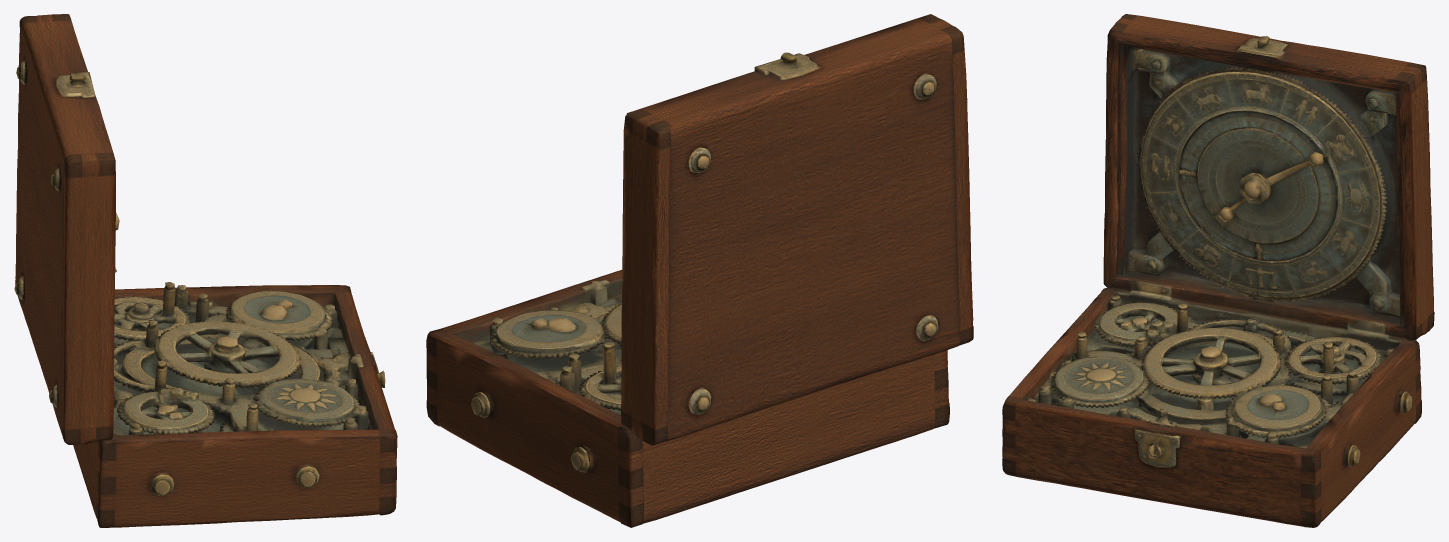
The model's file is antikythera-model.glb.
3 renders of one model, left to right at view 1: azimuth 30°, elevation 25°; view 2: azimuth 150°, elevation 25°; view 3: azimuth 270°, elevation 25°, orthographic. The views are drawn at different scales.
Parts seen in each view (by area): view 1: tripo_node_0969b1f4-8b5d-4785-a4a1-6c1c8bc8f46a; view 2: tripo_node_0969b1f4-8b5d-4785-a4a1-6c1c8bc8f46a; view 3: tripo_node_0969b1f4-8b5d-4785-a4a1-6c1c8bc8f46a.
Part boxes in pixels (x1=…): tripo_node_0969b1f4-8b5d-4785-a4a1-6c1c8bc8f46a: x1=14, y1=14, x2=397, y2=527; tripo_node_0969b1f4-8b5d-4785-a4a1-6c1c8bc8f46a: x1=426, y1=14, x2=973, y2=527; tripo_node_0969b1f4-8b5d-4785-a4a1-6c1c8bc8f46a: x1=1002, y1=14, x2=1434, y2=527.
Bounding box in the file's own units: 1.03 × 0.9781 × 1.07.
Materials: 1 (1 with a texture image).
